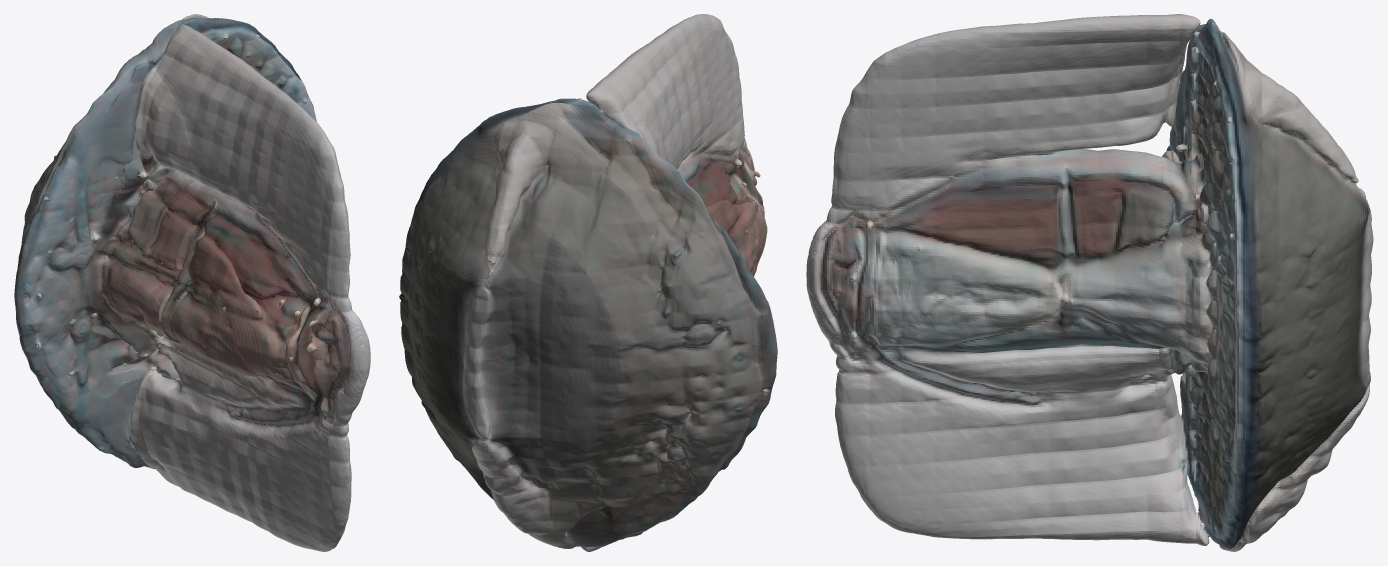
The model's file is springwater.glb.
3 views of the same model, side by side, from view 1: azimuth 30°, elevation 25°; view 2: azimuth 150°, elevation 25°; view 3: azimuth 270°, elevation 25° (orthographic). The views are drawn at different scales.
Parts seen in each view (by area): view 1: world; view 2: world; view 3: world.
Part boxes in pixels (x1=…): world: x1=14, y1=14, x2=370, y2=551; world: x1=399, y1=14, x2=777, y2=551; world: x1=806, y1=14, x2=1373, y2=551.
Bounding box in the file's own units: 0.7552 × 0.9714 × 0.9419.
